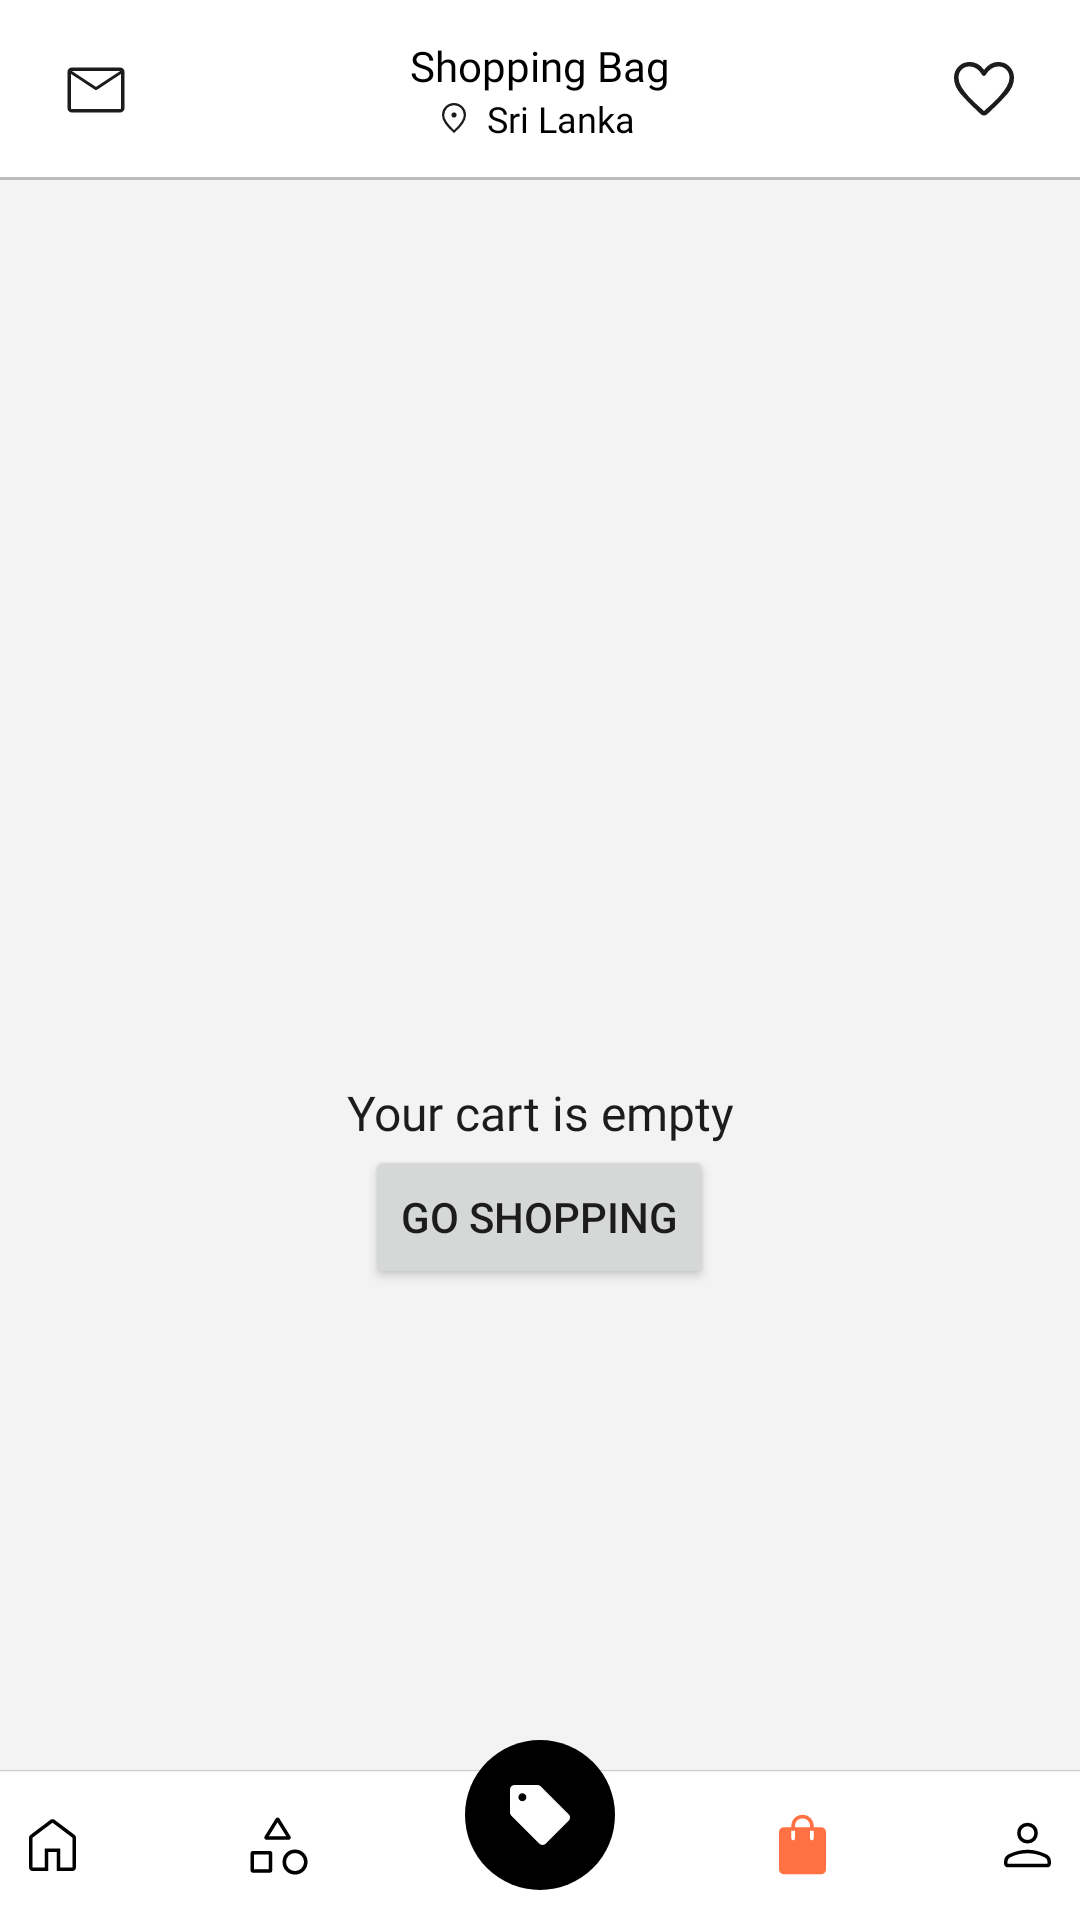

Screen size 1080×1920. Icon name, then its box in pixels as (left=x1, top=y1, right=x2, bottom=y2):
category: (left=250, top=1817, right=308, bottom=1875)
favorite: (left=954, top=62, right=1014, bottom=116)
home: (left=29, top=1819, right=76, bottom=1871)
mail: (left=67, top=67, right=125, bottom=113)
person: (left=1004, top=1822, right=1051, bottom=1868)
products: (left=465, top=1740, right=615, bottom=1890)
shopping bag: (left=779, top=1814, right=826, bottom=1875)
